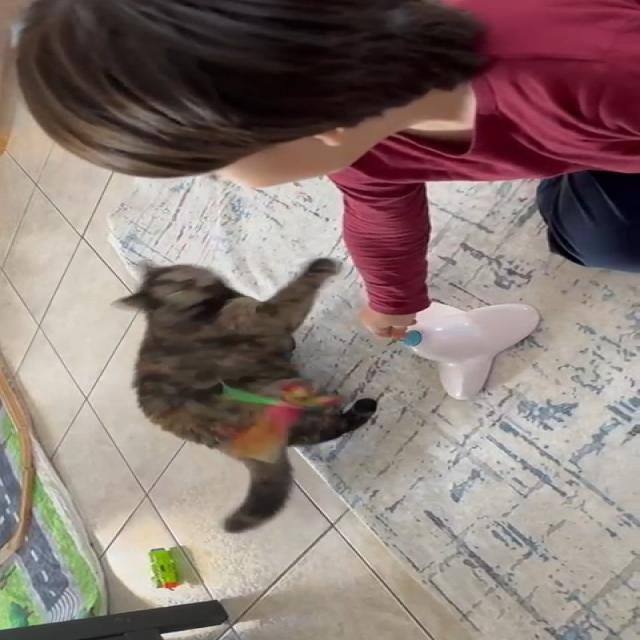authorized: (112, 256, 379, 533)
